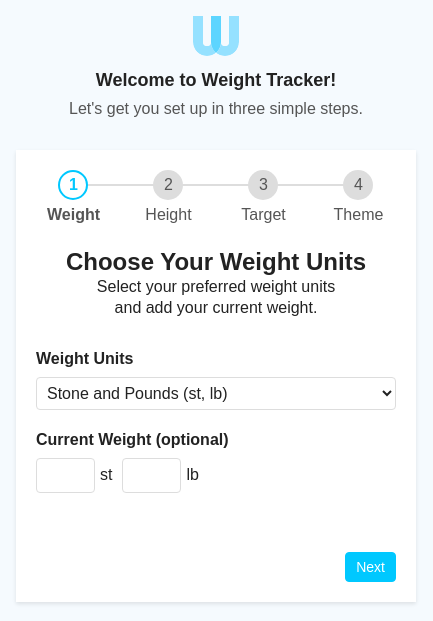
Scenario: WelcomePage › advances through all onboarding steps and shows finish on the last step
Click the button "Next": click(371, 567) [345,552,396,582]
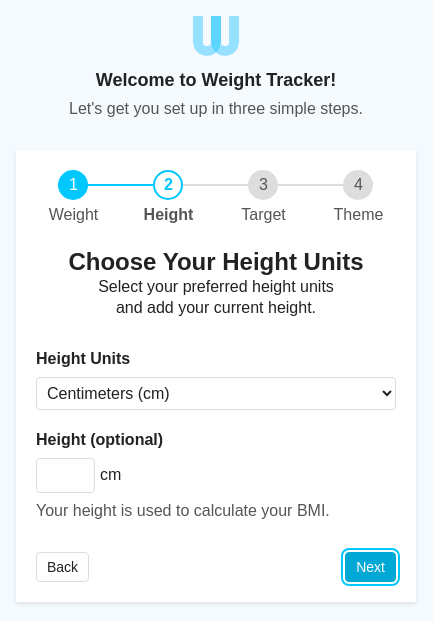
Now the heading "Choose Your Height Units" is shown, box [68,248,364,275]
Now the button "Back" is shown, box [36,552,89,582]
Click the button "Next": click(371, 567) [345,552,396,582]
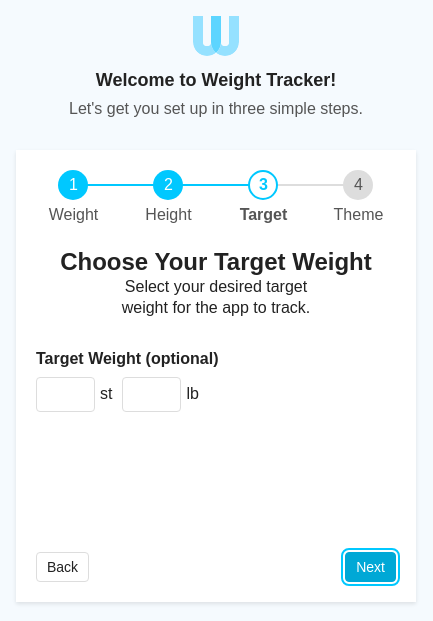
Now the heading "Choose Your Target Weight" is shown, box [36,246,396,277]
Click the button "Next": click(371, 567) [345,552,396,582]
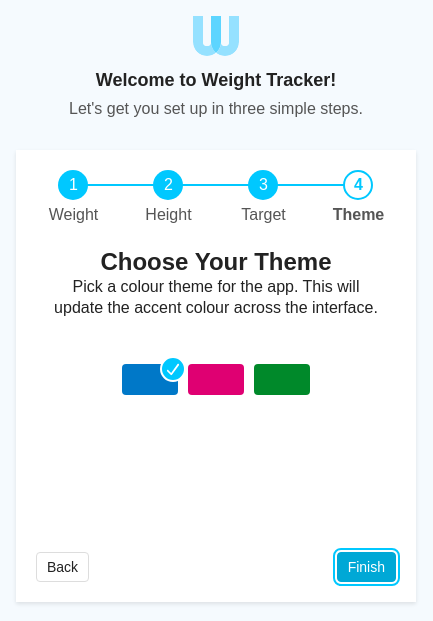
Now the heading "Choose Your Theme" is shown, box [100,248,332,275]
Now the button "Finish" is shown, box [337,552,396,582]
